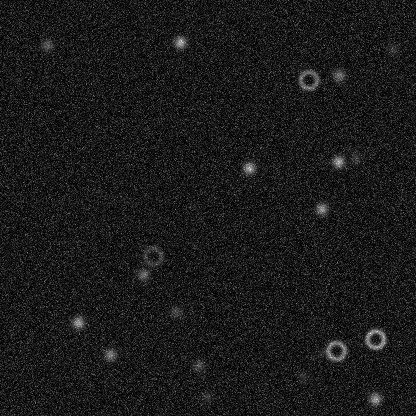Ring: (363, 327, 387, 351), (324, 338, 348, 362), (140, 244, 164, 268), (296, 67, 320, 91)
Spot: (347, 150, 363, 166), (101, 346, 117, 362), (312, 344, 328, 360), (172, 34, 188, 50), (70, 314, 86, 330), (367, 390, 383, 406), (330, 67, 346, 83), (294, 368, 310, 384), (199, 388, 215, 404), (384, 41, 400, 57), (330, 153, 346, 169), (190, 357, 206, 373), (135, 266, 151, 282), (241, 160, 257, 176), (313, 200, 329, 216), (167, 303, 183, 319), (38, 37, 54, 53)
